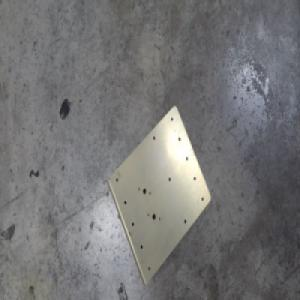MetalSheet: (106, 104, 212, 287)
